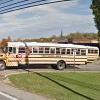buses: (0, 40, 88, 70)
